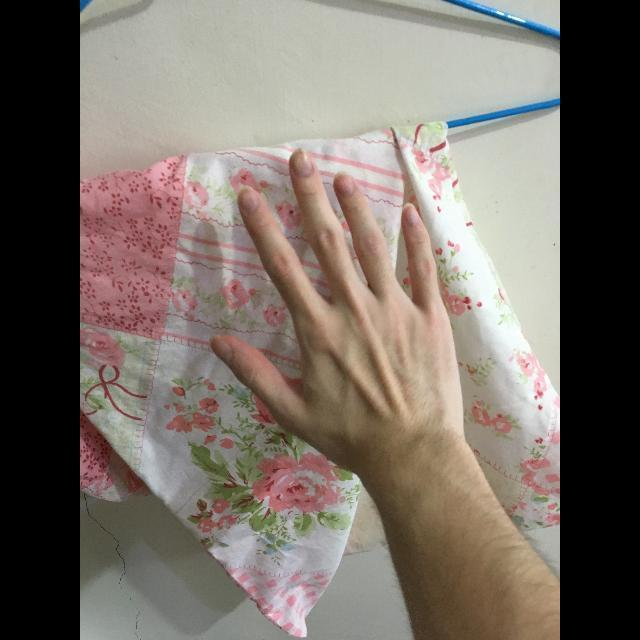bare_hand: (208, 146, 478, 513)
